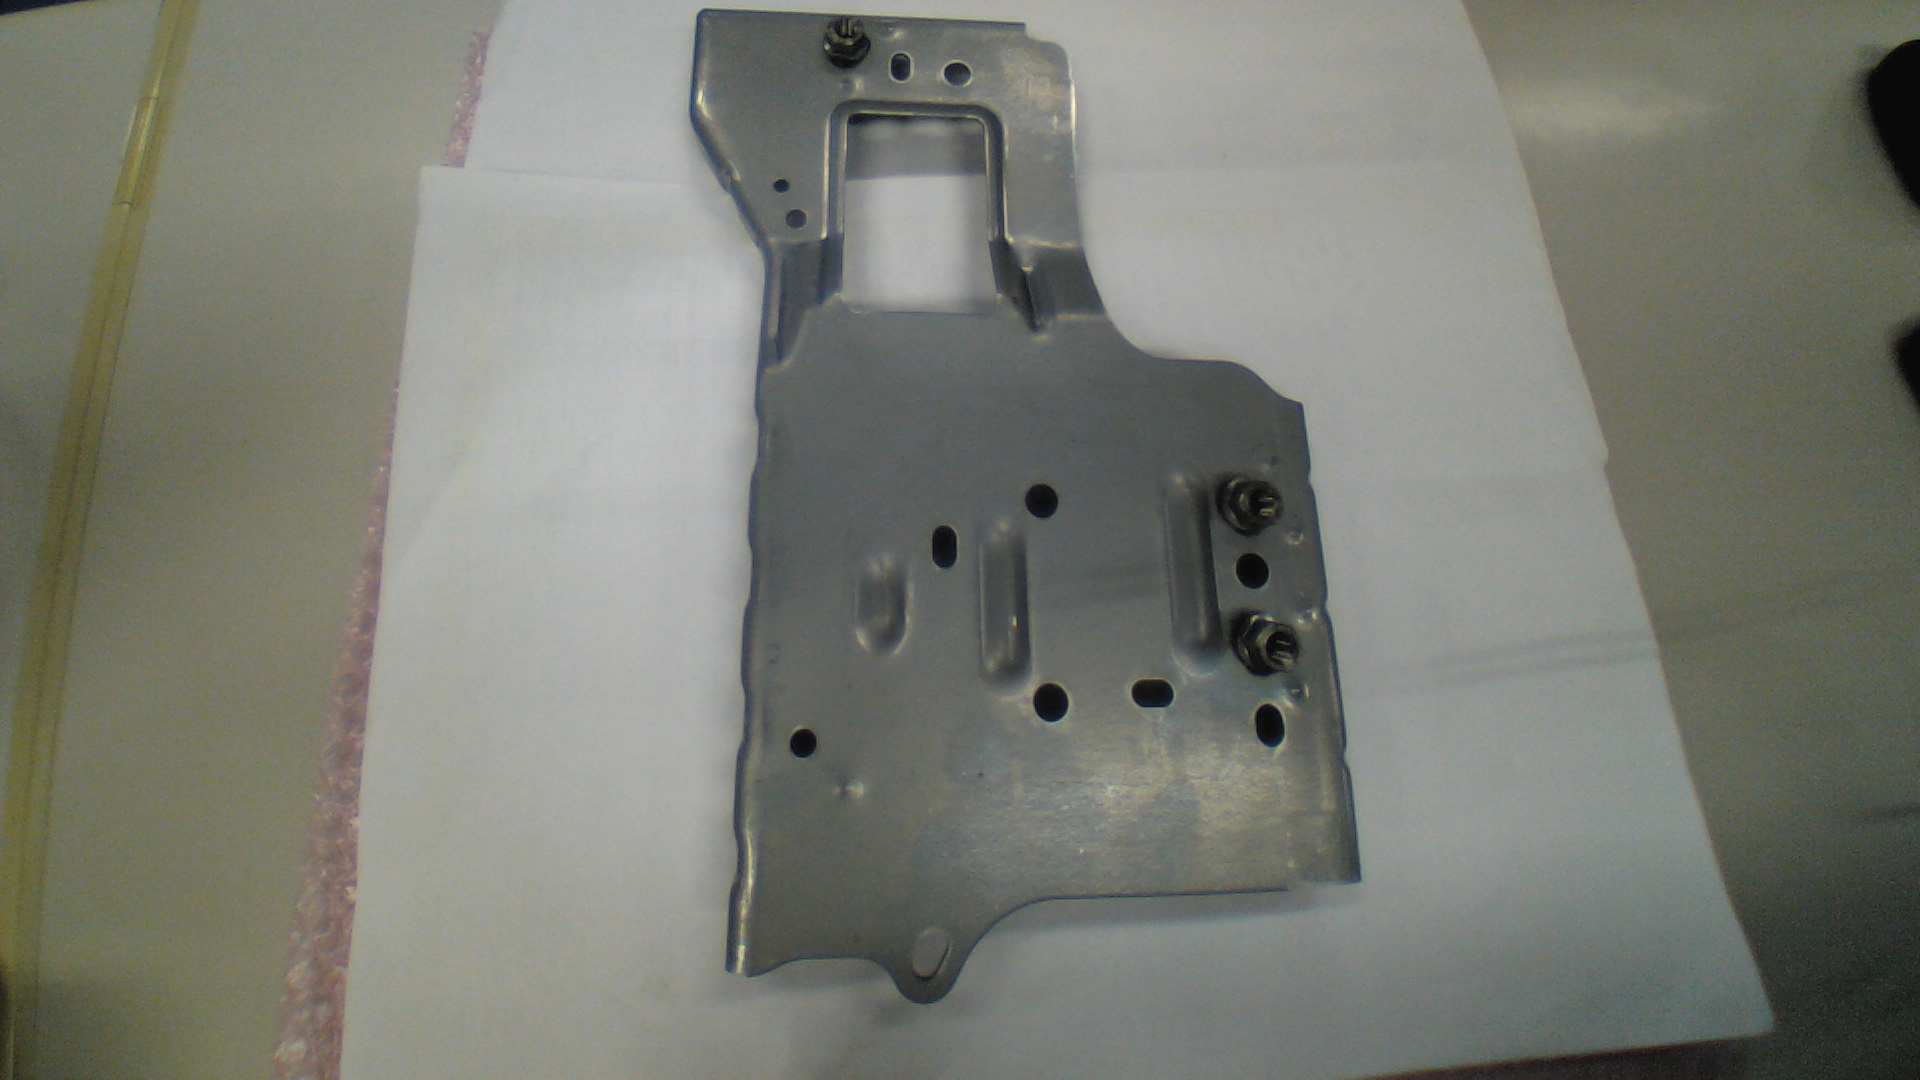dog: (1236, 611, 1300, 679), (1218, 473, 1284, 537), (823, 18, 873, 70)
